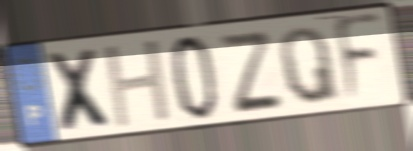0: (168, 32, 220, 123)
F: (332, 9, 385, 109)
H: (101, 36, 176, 132)
Q: (276, 24, 344, 107)
X: (44, 46, 118, 135)
Z: (215, 28, 286, 116)
